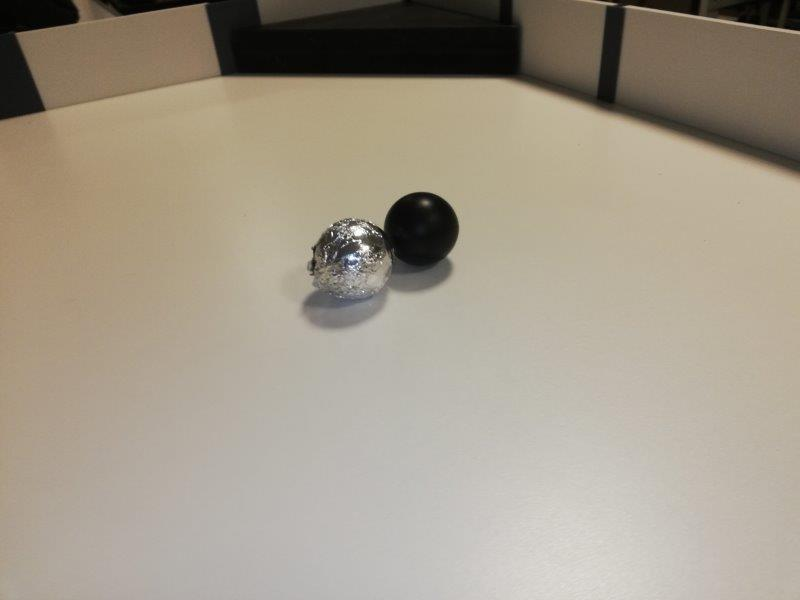bianca: (308, 216, 393, 299)
nera: (383, 190, 461, 263)
